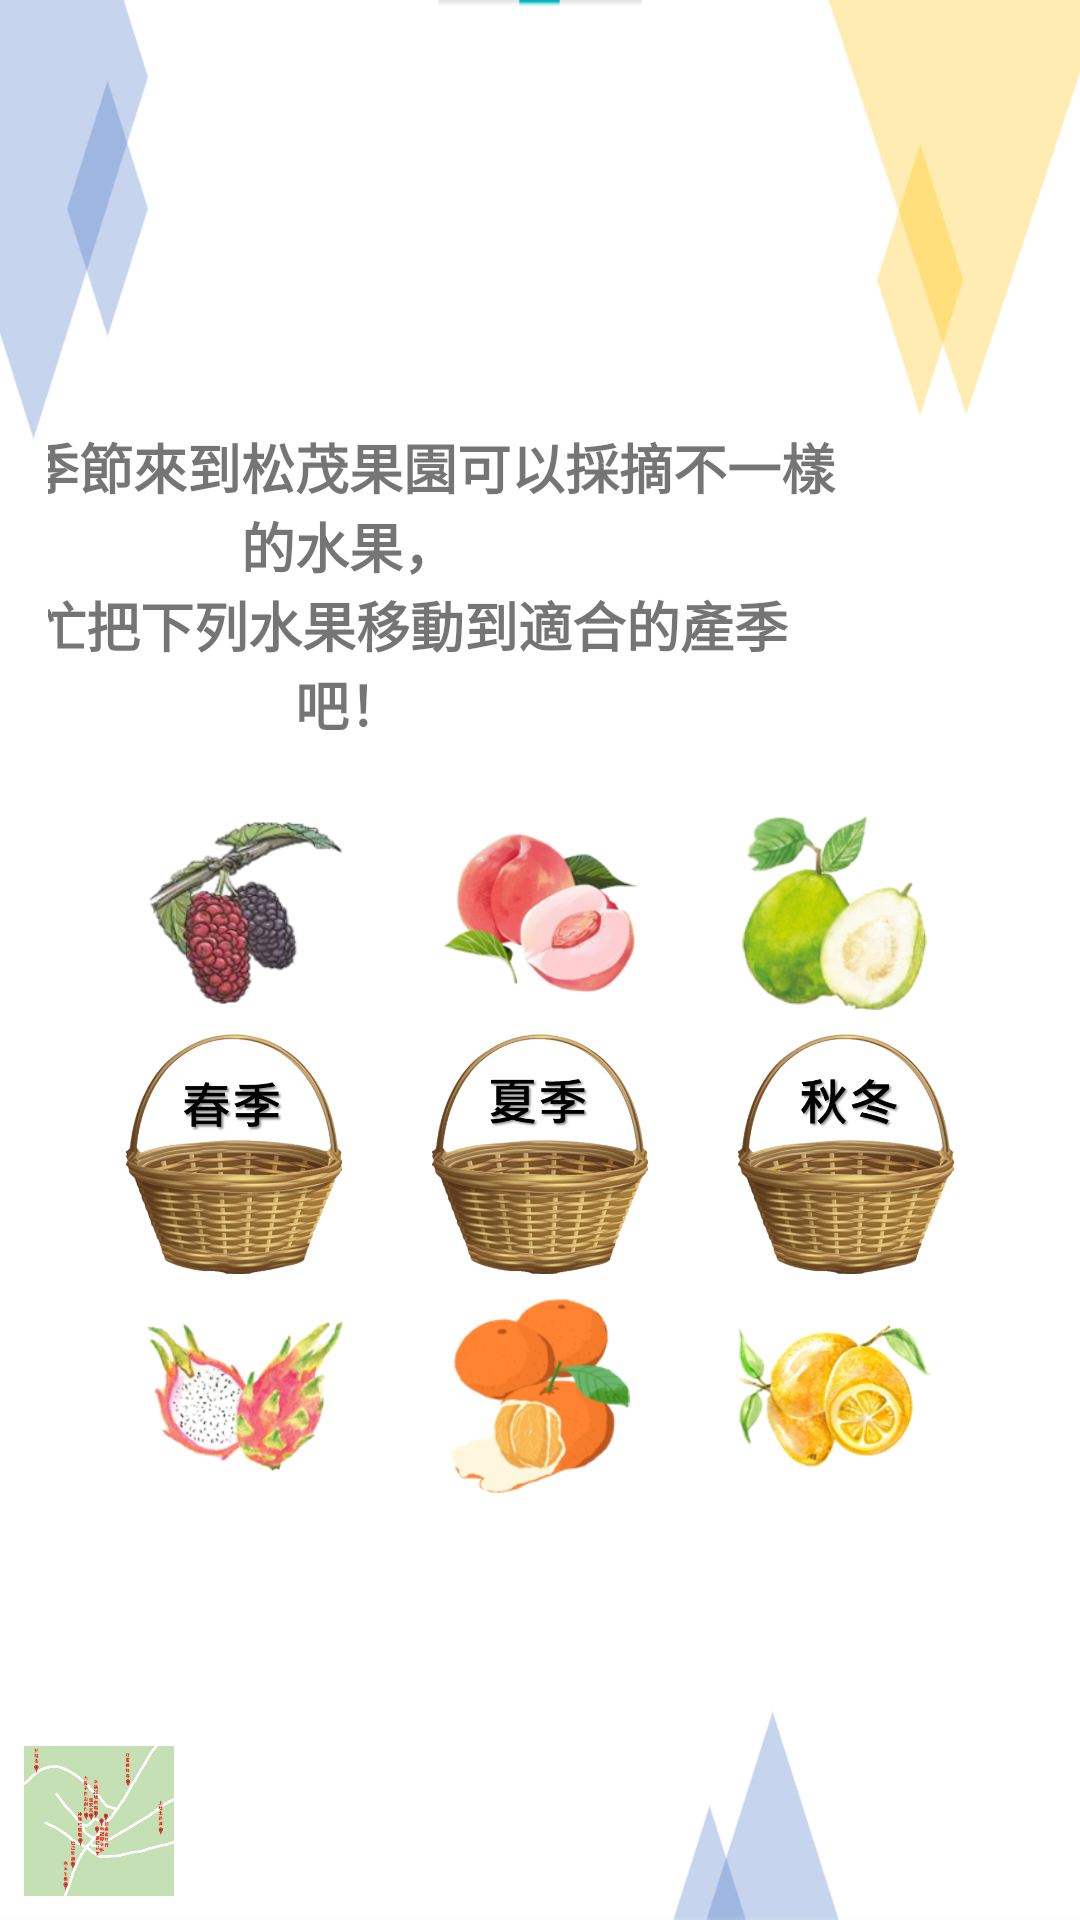

Screen size 1080x1920. Icon name, then its center in pixels as point (x, y):
basket: point (234, 1154), point (540, 1154), point (846, 1154)
fruit: point (834, 913), point (245, 913), point (540, 913), point (540, 1396), point (245, 1396), point (834, 1396)
map: point (99, 1821)
